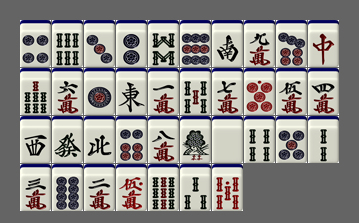0m: (116, 164, 147, 211)
0p: (244, 68, 275, 115)
0s: (212, 164, 243, 211)
1m: (148, 68, 179, 115)
1p: (84, 68, 115, 115)
1s: (180, 116, 211, 163)
1z: (116, 68, 147, 115)
2m: (84, 164, 115, 211)
2p: (116, 20, 147, 67)
2s: (308, 116, 339, 163)
2z: (212, 20, 243, 67)
3m: (20, 164, 51, 211)
3p: (84, 20, 115, 67)
3s: (180, 164, 211, 211)
3z: (20, 116, 51, 163)
4m: (308, 68, 339, 115)
4p: (20, 20, 51, 67)
4s: (244, 116, 275, 163)
4z: (84, 116, 115, 163)
5m: (276, 68, 307, 115)
5p: (276, 116, 307, 163)
5s: (180, 68, 211, 115)
5z: (212, 116, 243, 163)
6m: (52, 68, 83, 115)
6p: (116, 116, 147, 163)
6s: (52, 20, 83, 67)
6z: (52, 116, 83, 163)
7m: (212, 68, 243, 115)
7p: (276, 20, 307, 67)
7s: (20, 68, 51, 115)
7z: (308, 20, 339, 67)
8m: (148, 116, 179, 163)
8p: (52, 164, 83, 211)
8s: (148, 20, 179, 67)
9m: (244, 20, 275, 67)
9p: (180, 20, 211, 67)
9s: (148, 164, 179, 211)
